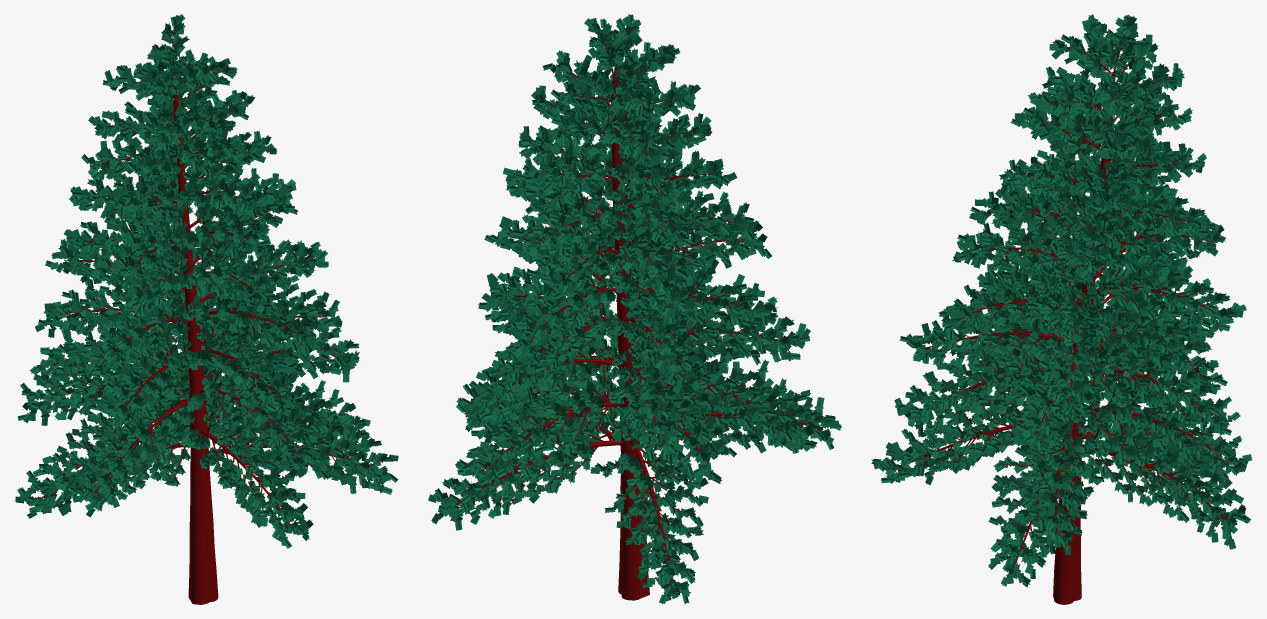
File: tree1.FBX
3 renders of one model, left to right at view 1: azimuth 30°, elevation 25°; view 2: azimuth 150°, elevation 25°; view 3: azimuth 270°, elevation 25°, orthographic. The views are drawn at different scales.
Visible parts, largest first — view 1: Foliage001; view 2: Foliage001; view 3: Foliage001.
Part boxes in pixels (<box>): Foliage001: <box>14,14,398,604</box>; Foliage001: <box>428,14,841,604</box>; Foliage001: <box>871,14,1251,604</box>.
Size of the model in its own units: 413 by 668 by 395.
